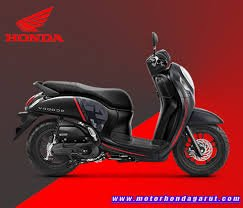motor: (19, 42, 239, 189)
